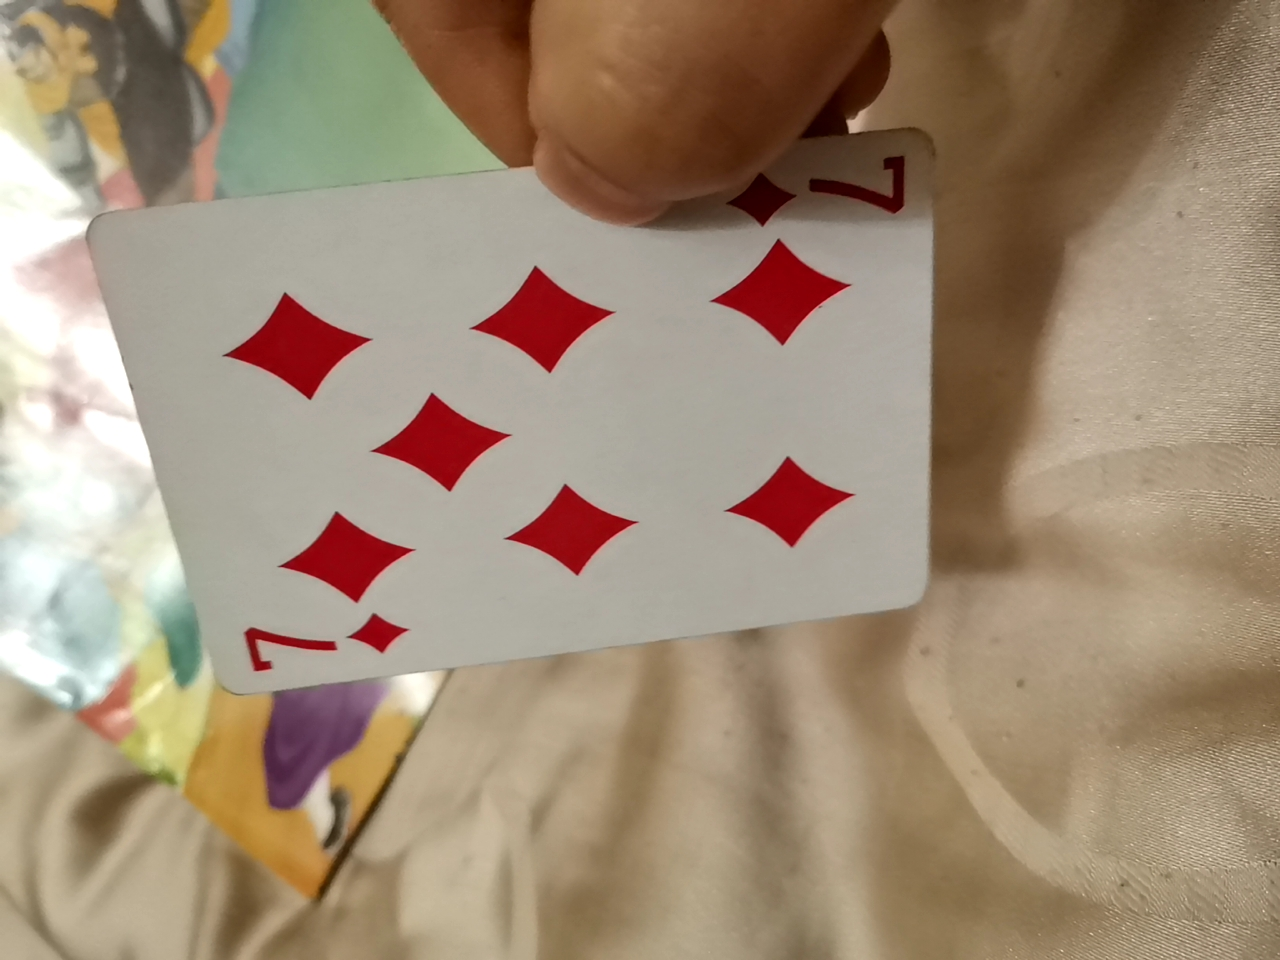fk 7: (149, 179, 931, 711)
